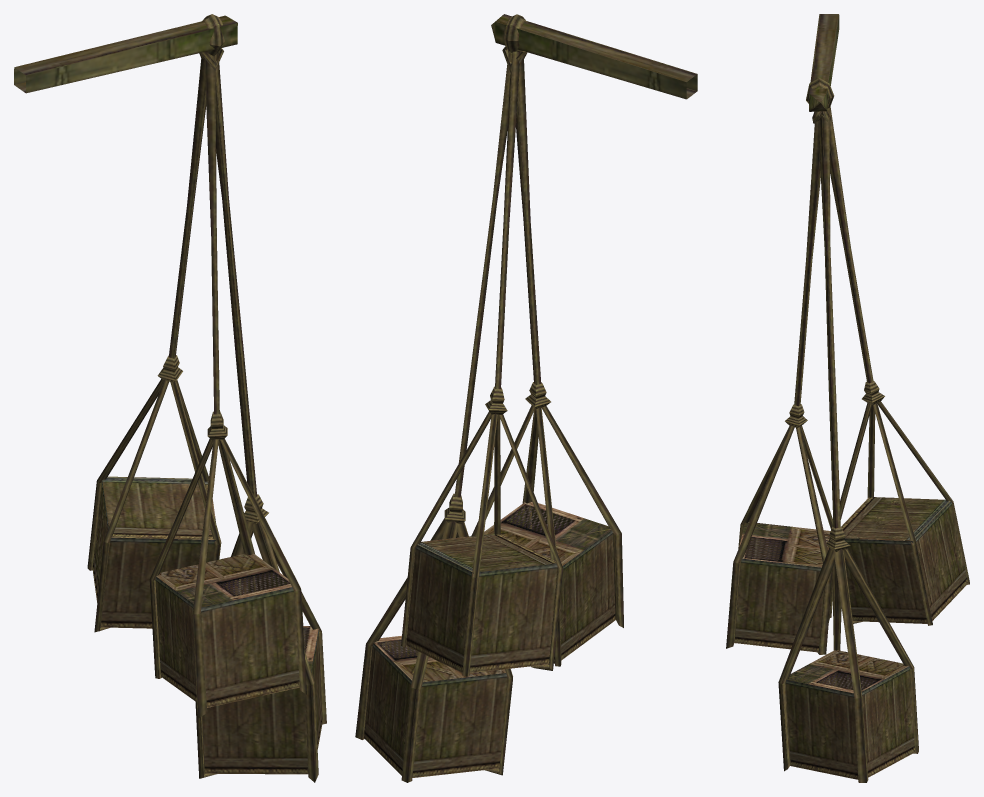
File: S_Build_Village125.FBX
The picture shows the model from 3 angles, left to right: view 1: azimuth 30°, elevation 25°; view 2: azimuth 150°, elevation 25°; view 3: azimuth 270°, elevation 25°; orthographic projection. The views are drawn at different scales.
Parts seen in each view (by area): view 1: S_Build_Village125; view 2: S_Build_Village125; view 3: S_Build_Village125.
Boxes of the visible parts, bbox=[...] form: S_Build_Village125: bbox=[14, 14, 326, 782]; S_Build_Village125: bbox=[355, 14, 697, 782]; S_Build_Village125: bbox=[726, 14, 969, 782].
Size of the model in its own units: 500 by 380 by 1136.
